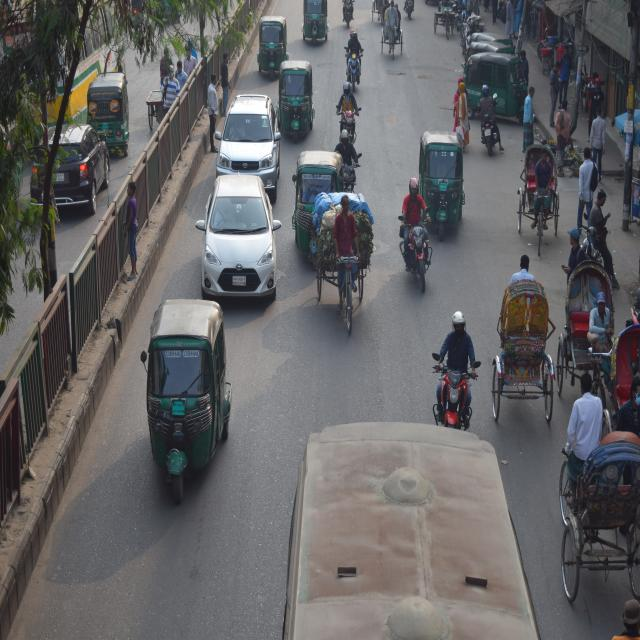bus: (260, 422, 555, 640)
car: (197, 173, 280, 311), (29, 110, 113, 222), (208, 89, 284, 183)
motorbike: (419, 322, 477, 434), (395, 202, 436, 291), (473, 89, 502, 159), (338, 31, 367, 84), (332, 90, 358, 140), (332, 145, 356, 197)
